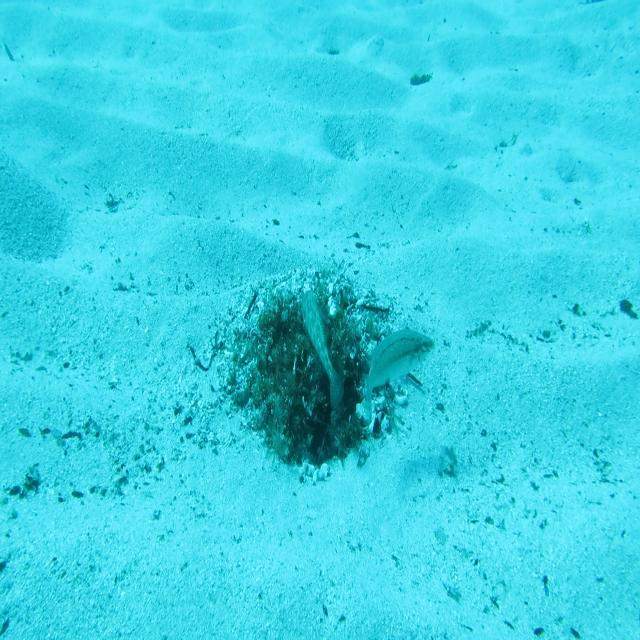NIP_CORE: (296, 287, 348, 413)
core_nest: (285, 315, 328, 368)
female: (358, 324, 437, 428)
nest: (203, 240, 418, 494)
vegetation: (410, 70, 434, 88)
